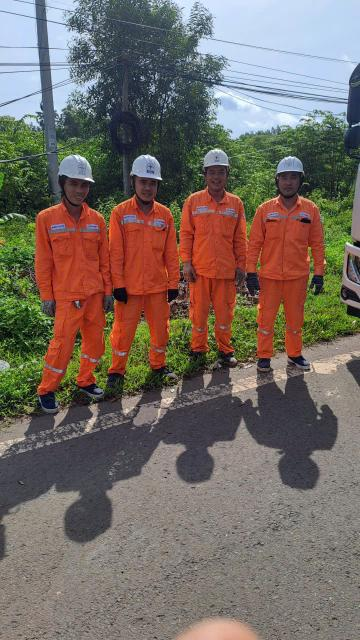gloves: (32, 290, 70, 330), (304, 269, 331, 300), (242, 267, 266, 299), (178, 258, 200, 286), (162, 282, 185, 304), (114, 283, 132, 306), (232, 269, 250, 288), (103, 291, 114, 317)
helmet: (55, 142, 108, 191), (266, 145, 312, 187), (195, 138, 236, 176), (133, 142, 168, 186)
shoes: (33, 378, 68, 425), (249, 350, 281, 384), (284, 347, 318, 378), (147, 356, 177, 389), (214, 341, 242, 373), (79, 368, 104, 402), (180, 343, 207, 365), (101, 370, 125, 390)
